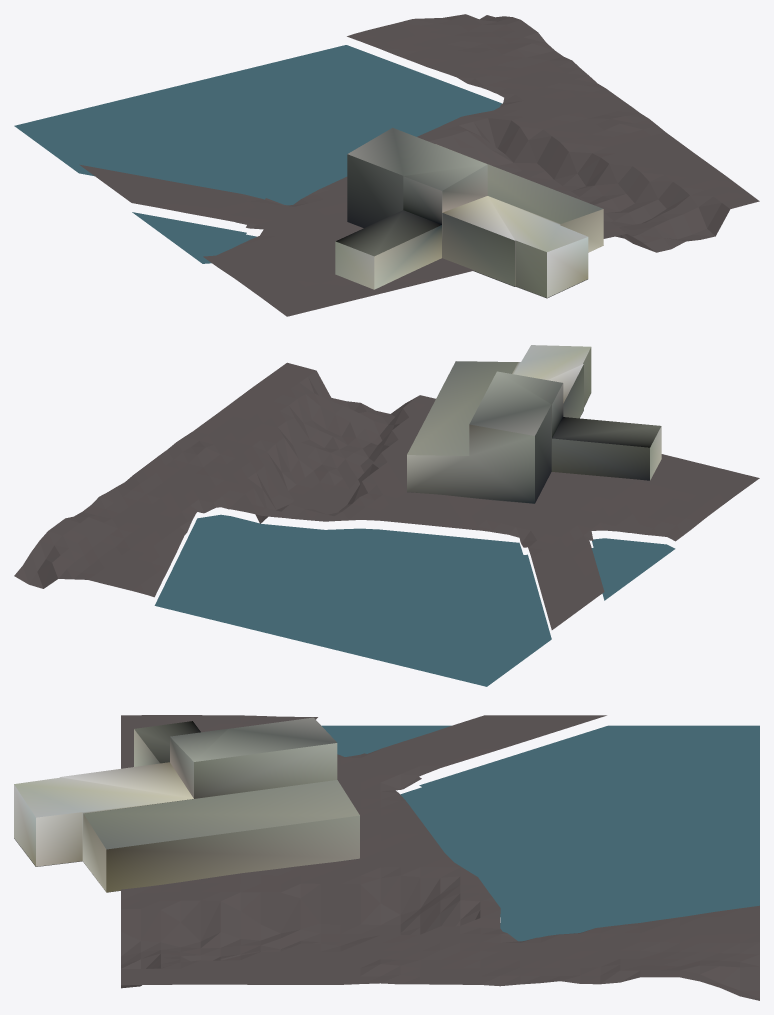
3 renders of one model, top to bottom at view 1: azimuth 30°, elevation 25°; view 2: azimuth 150°, elevation 25°; view 3: azimuth 270°, elevation 25°, orthographic. The views are drawn at different scales.
Parts seen in each view (by area): view 1: c_m10_p09; view 2: c_m10_p09; view 3: c_m10_p09.
Part boxes in pixels (bbox=[...]): c_m10_p09: bbox=[14, 14, 759, 316]; c_m10_p09: bbox=[14, 345, 759, 686]; c_m10_p09: bbox=[14, 715, 759, 1000].
Bounding box in the file's own units: 128 × 26.21 × 149.
